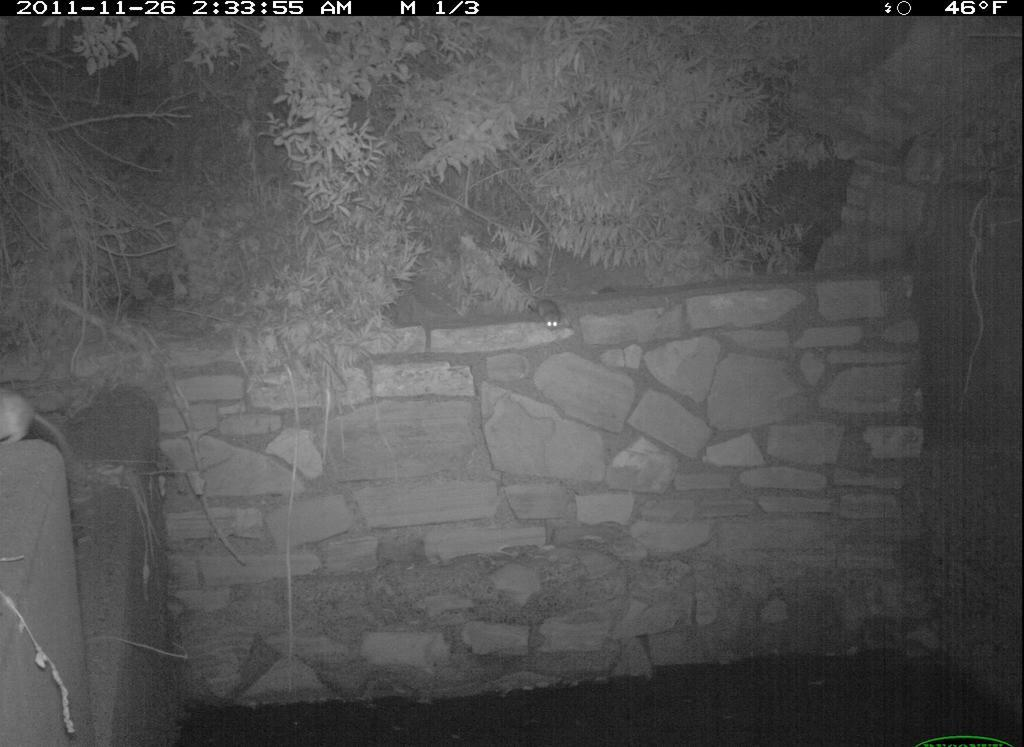rodent: (1, 384, 91, 470), (525, 289, 571, 344)
